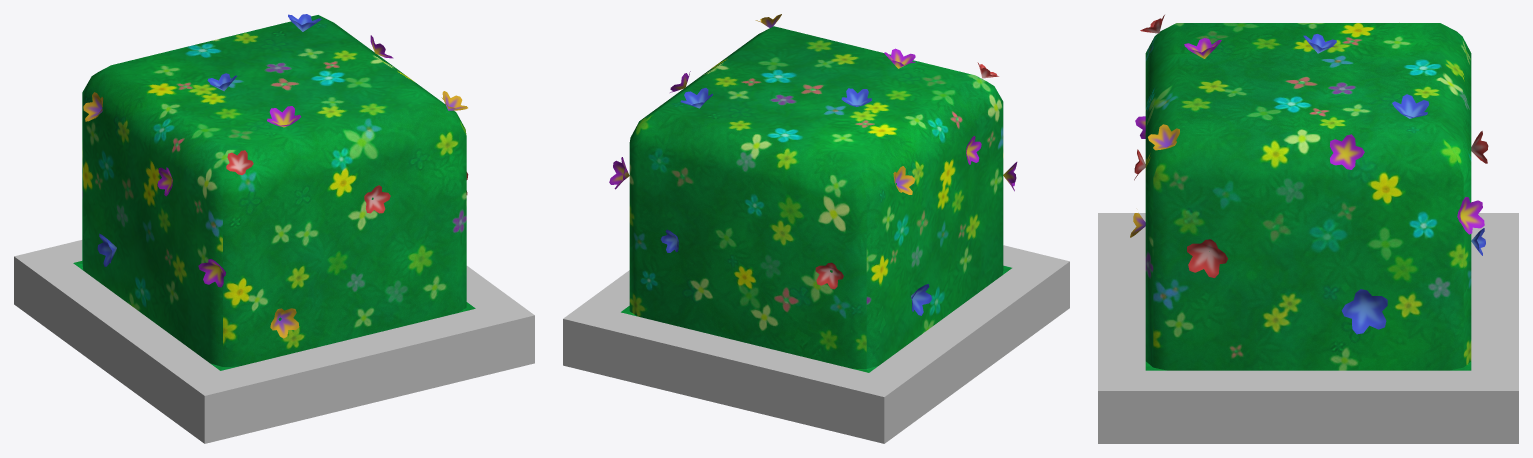
The model's file is Plant04_a03.FBX.
3 renders of one model, left to right at view 1: azimuth 30°, elevation 25°; view 2: azimuth 150°, elevation 25°; view 3: azimuth 270°, elevation 25°, orthographic. The views are drawn at different scales.
Visible parts, largest first — view 1: Plant04_a03; view 2: Plant04_a03; view 3: Plant04_a03.
Boxes of the visible parts, left/top/right/bottom form: Plant04_a03: left=14, top=14, right=534, bottom=443; Plant04_a03: left=563, top=14, right=1069, bottom=443; Plant04_a03: left=1098, top=15, right=1518, bottom=443.
Size of the model in its own units: 339 by 261 by 339.
